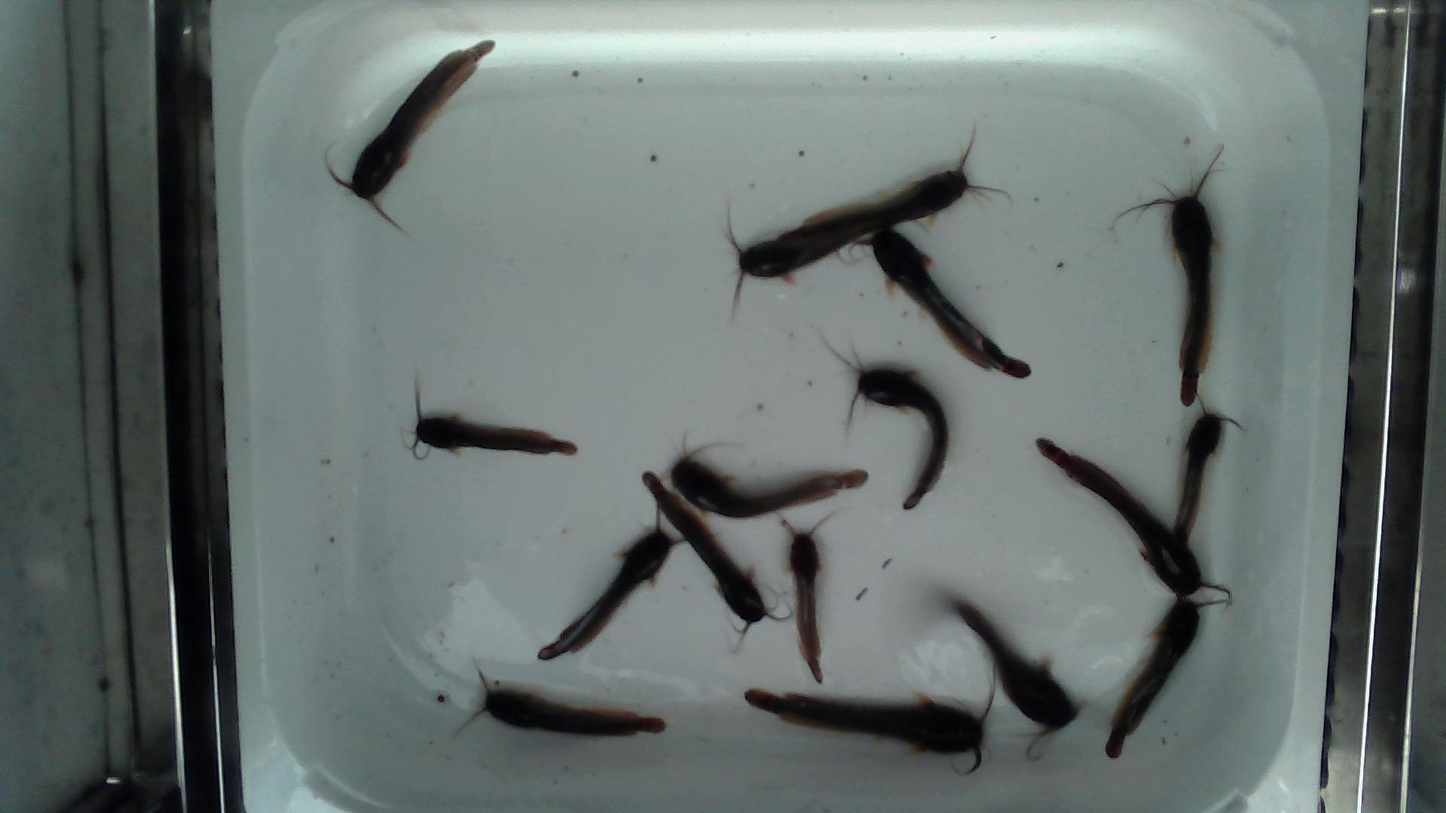lele: (330, 41, 494, 229), (1037, 439, 1229, 598), (1118, 145, 1223, 406), (871, 229, 1030, 377), (780, 142, 1004, 238), (1104, 596, 1228, 762), (644, 473, 768, 625), (538, 526, 674, 659), (723, 207, 890, 314), (836, 352, 949, 508), (745, 689, 981, 762), (952, 598, 1077, 728), (409, 379, 577, 454), (671, 455, 867, 518), (1175, 398, 1243, 549), (484, 687, 665, 735), (787, 526, 821, 682)
